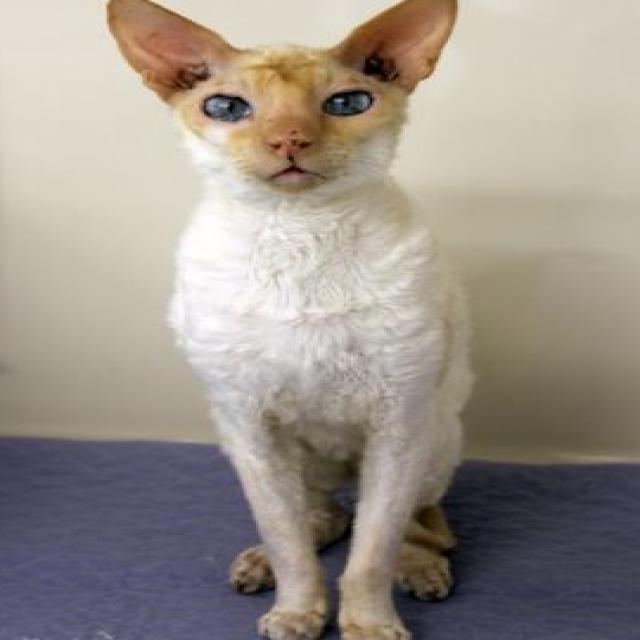Cornish Rex: (92, 0, 490, 640)
